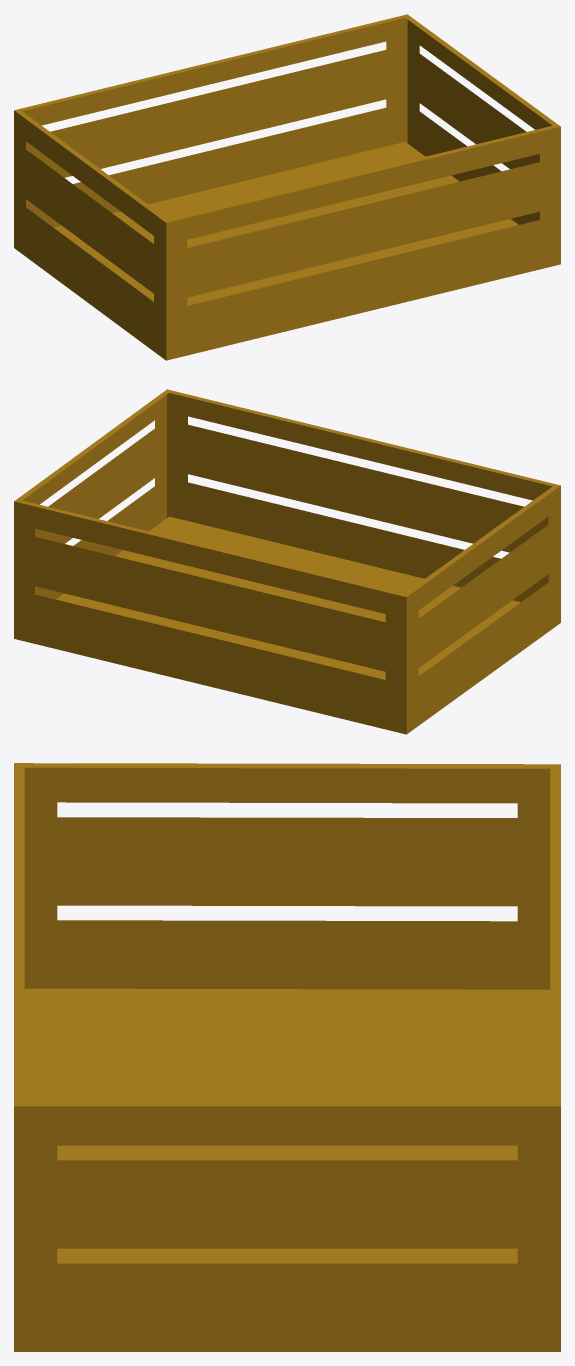
Rendered from guacal.obj.
3 renders of one model, top to bottom at view 1: azimuth 30°, elevation 25°; view 2: azimuth 150°, elevation 25°; view 3: azimuth 270°, elevation 25°, orthographic. The views are drawn at different scales.
Visible parts, largest first — view 1: 3_3, 2_2, 4_4; view 2: 3_3, 2_2, 4_4; view 3: 3_3, 2_2, 4_4.
Part boxes in pixels (<box>): 3_3: <box>14,18,560,360</box>; 2_2: <box>54,142,518,305</box>; 4_4: <box>14,14,560,222</box>; 3_3: <box>14,393,560,734</box>; 2_2: <box>56,516,520,679</box>; 4_4: <box>14,389,560,596</box>; 3_3: <box>14,767,560,1351</box>; 2_2: <box>24,988,550,1263</box>; 4_4: <box>14,763,560,1106</box>.
Size of the model in its own units: 59.06 by 19.69 by 39.76.
